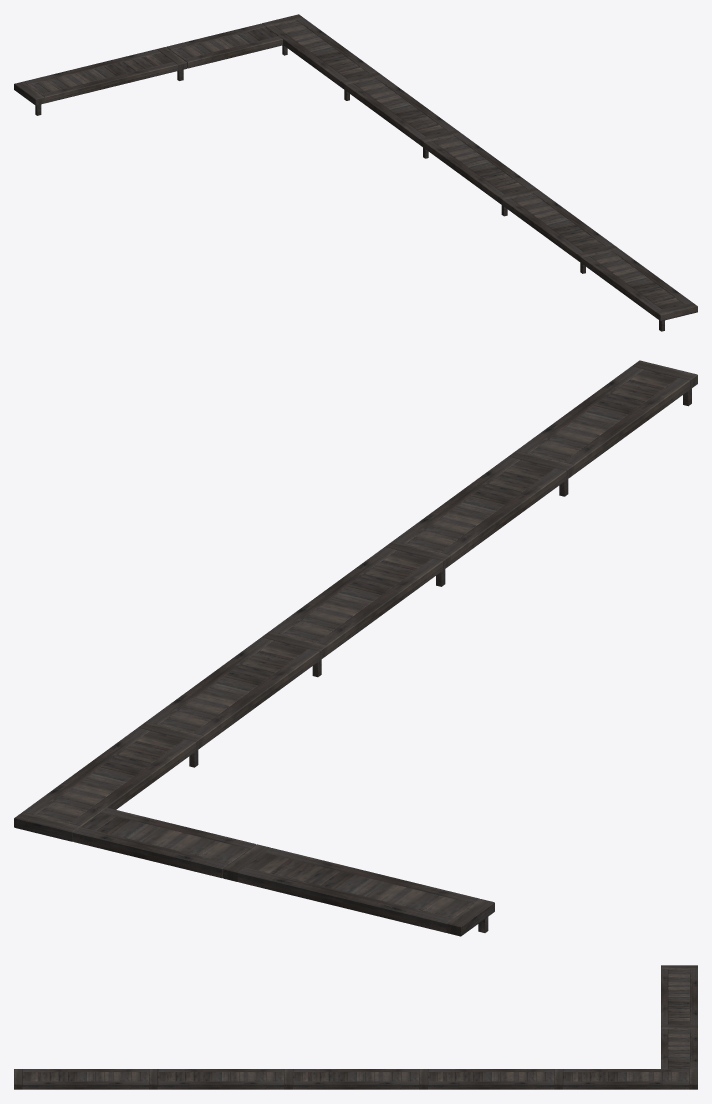
Rendered from SM_Unhyun_Norak_S_Haenggak_Maru_A001.fbx.
The picture shows the model from 3 angles, top to bottom: view 1: azimuth 30°, elevation 25°; view 2: azimuth 150°, elevation 25°; view 3: azimuth 270°, elevation 25°; orthographic projection. The views are drawn at different scales.
Parts seen in each view (by area): view 1: SM_Unhyun_Norak_S_Haenggak_Maru_A001; view 2: SM_Unhyun_Norak_S_Haenggak_Maru_A001; view 3: SM_Unhyun_Norak_S_Haenggak_Maru_A001.
Boxes of the visible parts, bbox=[...] form: SM_Unhyun_Norak_S_Haenggak_Maru_A001: bbox=[14, 14, 697, 331]; SM_Unhyun_Norak_S_Haenggak_Maru_A001: bbox=[14, 360, 697, 936]; SM_Unhyun_Norak_S_Haenggak_Maru_A001: bbox=[14, 965, 697, 1089].
Bounding box in the file's own units: 540 × 32.96 × 1307.
